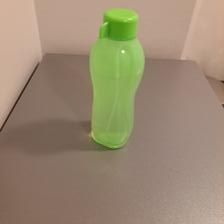bottle: (84, 7, 146, 147)
